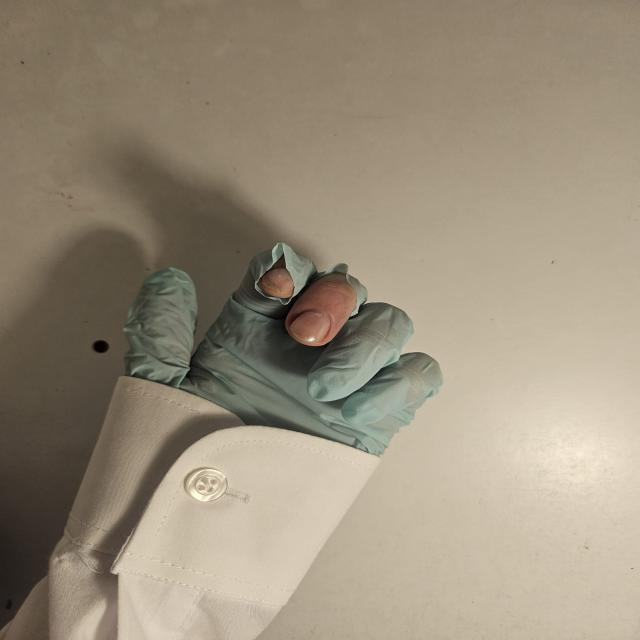gloves_damaged: (116, 239, 454, 462)
